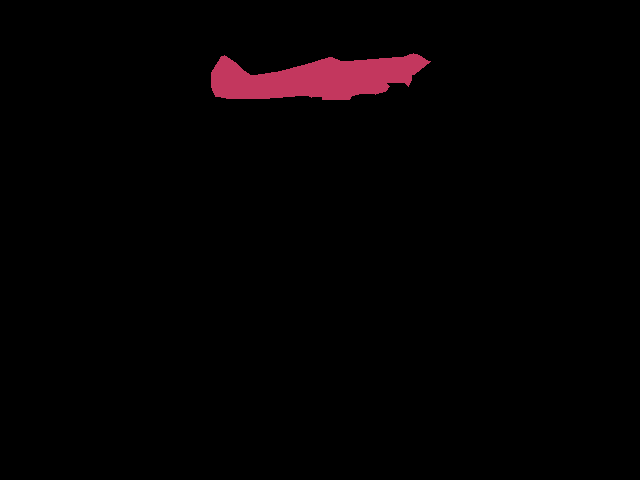Airplane: (211, 53, 430, 99)
